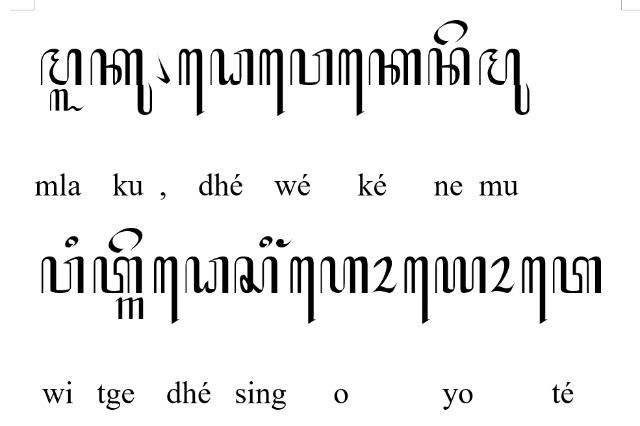_l: (49, 88, 86, 112)
dh: (210, 48, 254, 86), (185, 256, 229, 294)
e: (434, 19, 468, 45), (108, 228, 142, 253)
e1: (178, 48, 205, 118), (153, 256, 180, 324), (259, 48, 285, 118), (338, 48, 364, 118), (290, 257, 316, 325), (404, 256, 430, 324), (521, 256, 547, 324)
g: (116, 297, 144, 319)
h: (320, 256, 368, 294)
i: (259, 235, 273, 249), (64, 236, 78, 248)
k: (368, 48, 422, 86)
kom: (154, 54, 170, 84)
ku: (90, 48, 152, 115)
m: (40, 48, 82, 86)
mu: (478, 48, 530, 114)
n: (428, 47, 470, 85)
ng: (276, 238, 292, 248)
o: (488, 255, 516, 292), (372, 255, 398, 293)
s: (234, 256, 278, 294)
t: (92, 256, 142, 294), (552, 256, 602, 294)
w: (41, 256, 85, 294), (290, 49, 332, 85)
y: (434, 255, 486, 292)
